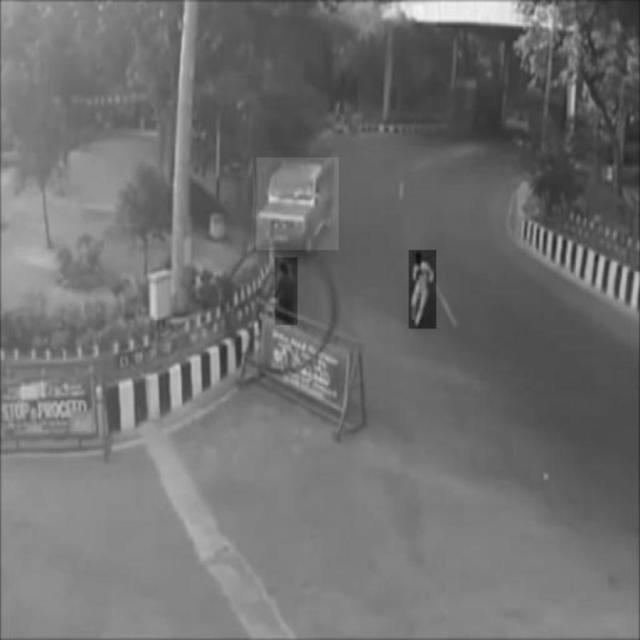person: (409, 251, 436, 329), (276, 258, 298, 325)
vehicle: (256, 158, 338, 250)
